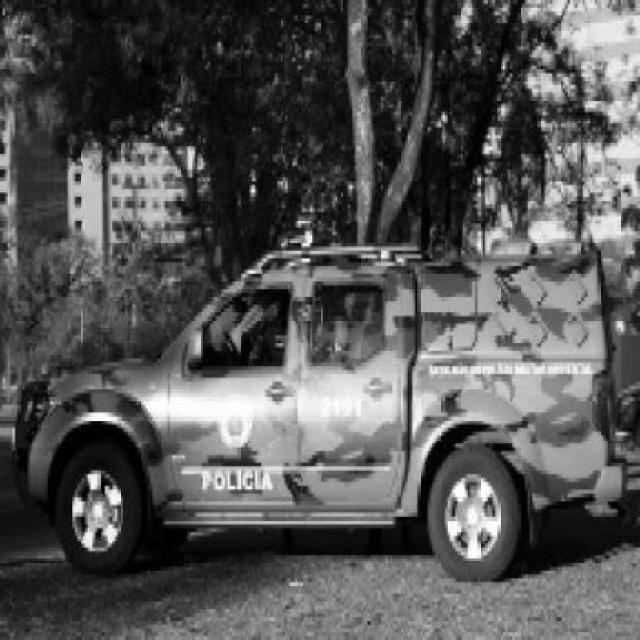Pickup: (14, 241, 627, 584)
